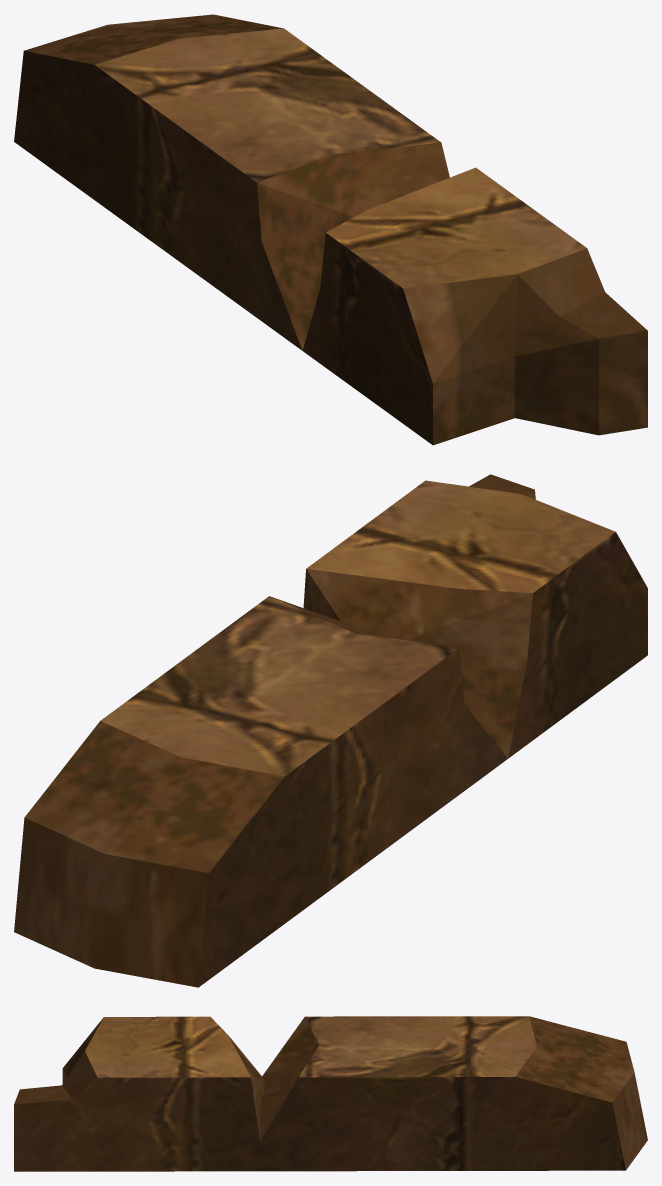
The model's file is Scene_hubian_008.FBX.
The picture shows the model from 3 angles, top to bottom: view 1: azimuth 30°, elevation 25°; view 2: azimuth 150°, elevation 25°; view 3: azimuth 270°, elevation 25°; orthographic projection. The views are drawn at different scales.
Parts seen in each view (by area): view 1: Scene_hubian_008; view 2: Scene_hubian_008; view 3: Scene_hubian_008.
Part boxes in pixels (x1,y1,x2,y2): Scene_hubian_008: (14, 14, 647, 445); Scene_hubian_008: (14, 474, 647, 987); Scene_hubian_008: (14, 1016, 647, 1171).
Size of the model in its own units: 0.8972 by 0.6349 by 3.88.
